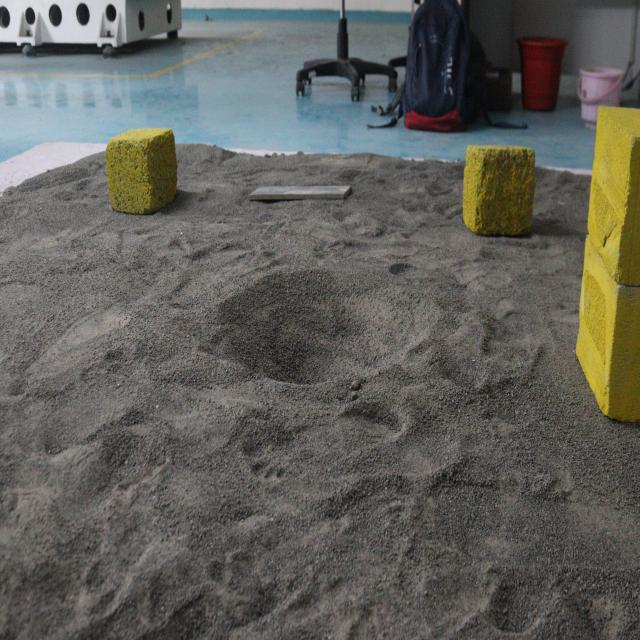box: (461, 127, 539, 254), (105, 119, 181, 226)
crater: (198, 258, 445, 413)
